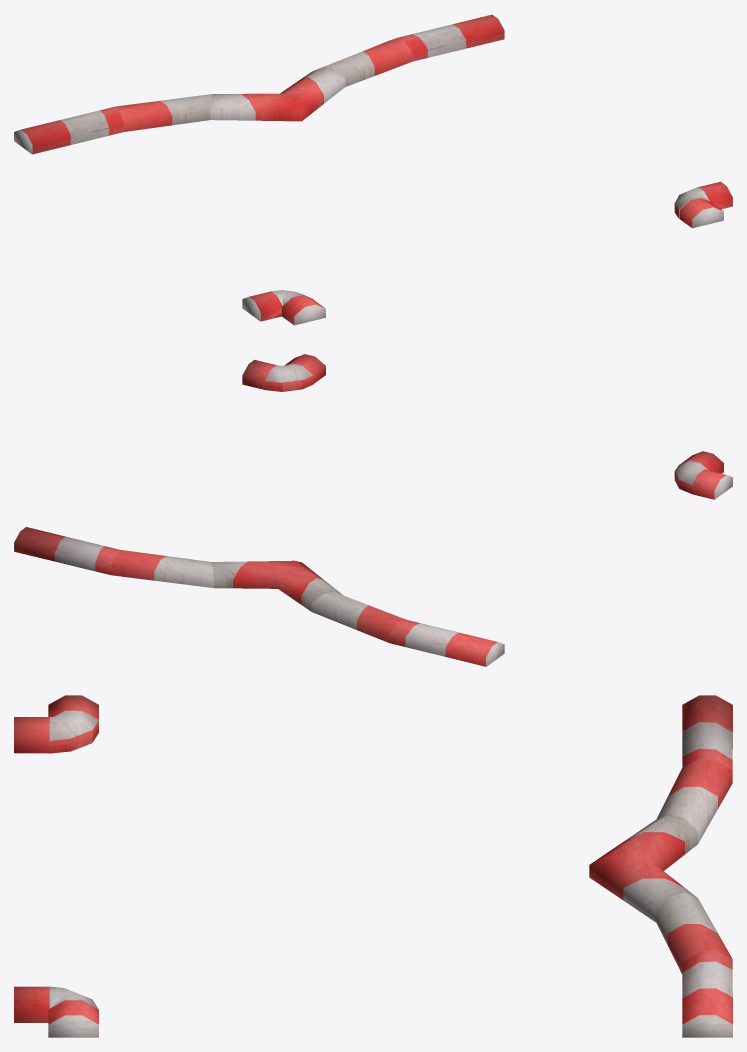
The model's file is crub_track_crossroads.fbx.
3 renders of one model, top to bottom at view 1: azimuth 30°, elevation 25°; view 2: azimuth 150°, elevation 25°; view 3: azimuth 270°, elevation 25°, orthographic. The views are drawn at different scales.
Parts seen in each view (by area): view 1: curb_track_crossroads; view 2: curb_track_crossroads; view 3: curb_track_crossroads.
Part boxes in pixels (x1,y1,x2,y2): curb_track_crossroads: (14,14,732,325); curb_track_crossroads: (14,354,732,666); curb_track_crossroads: (14,695,732,1037).
Size of the model in its own units: 200 by 6.43 by 190.
